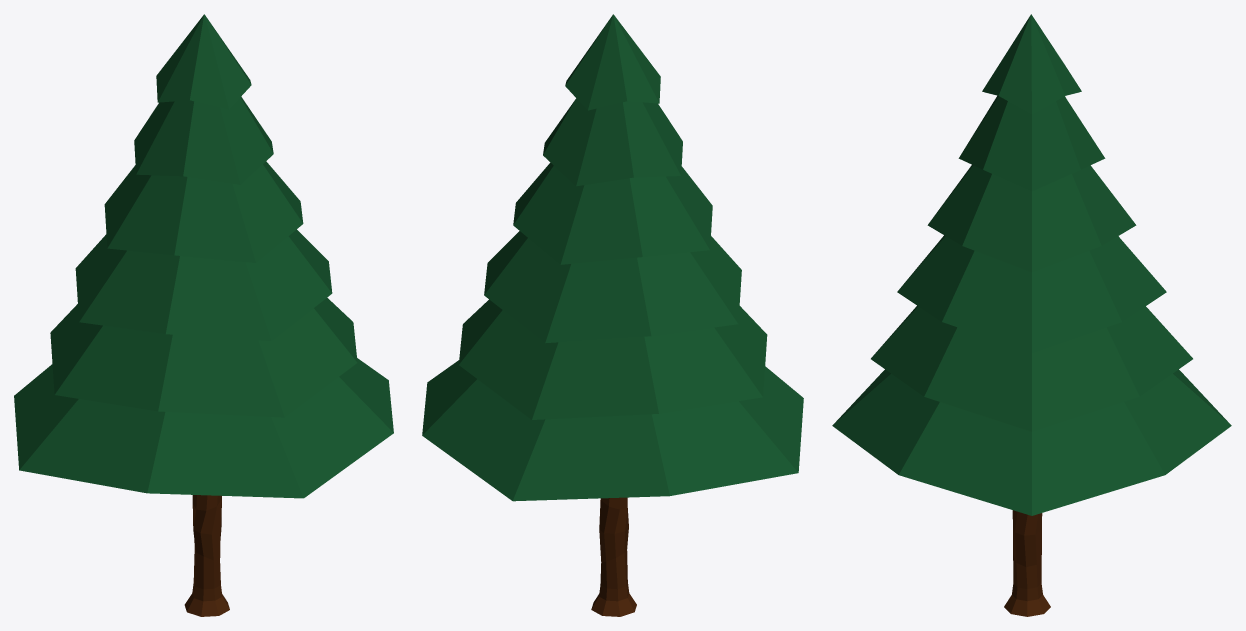
The model's file is Spruce.fbx.
3 views of the same model, side by side, from view 1: azimuth 30°, elevation 25°; view 2: azimuth 150°, elevation 25°; view 3: azimuth 270°, elevation 25° (orthographic).
Parts seen in each view (by area): view 1: Cylinder; view 2: Cylinder; view 3: Cylinder.
Part boxes in pixels (x1,y1,x2,y2): Cylinder: (14,14,393,616); Cylinder: (422,14,803,616); Cylinder: (832,14,1231,616).
Bounding box in the file's own units: 14.29 × 21.88 × 13.38.
